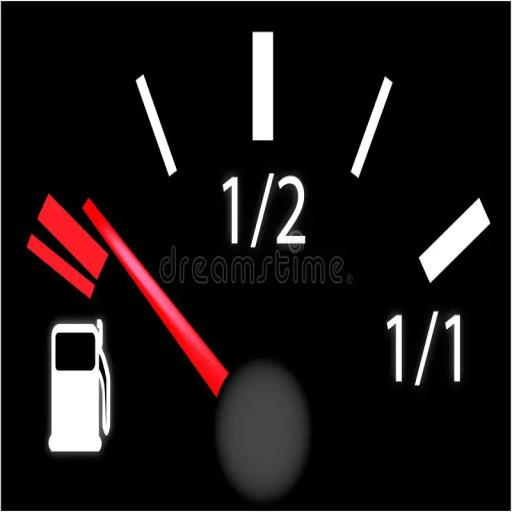fuel_icon: (43, 314, 117, 456)
full: (383, 304, 472, 405)
guage_area: (19, 20, 495, 512)
needle_center: (207, 358, 315, 509)
needle_tip: (82, 191, 126, 251)
